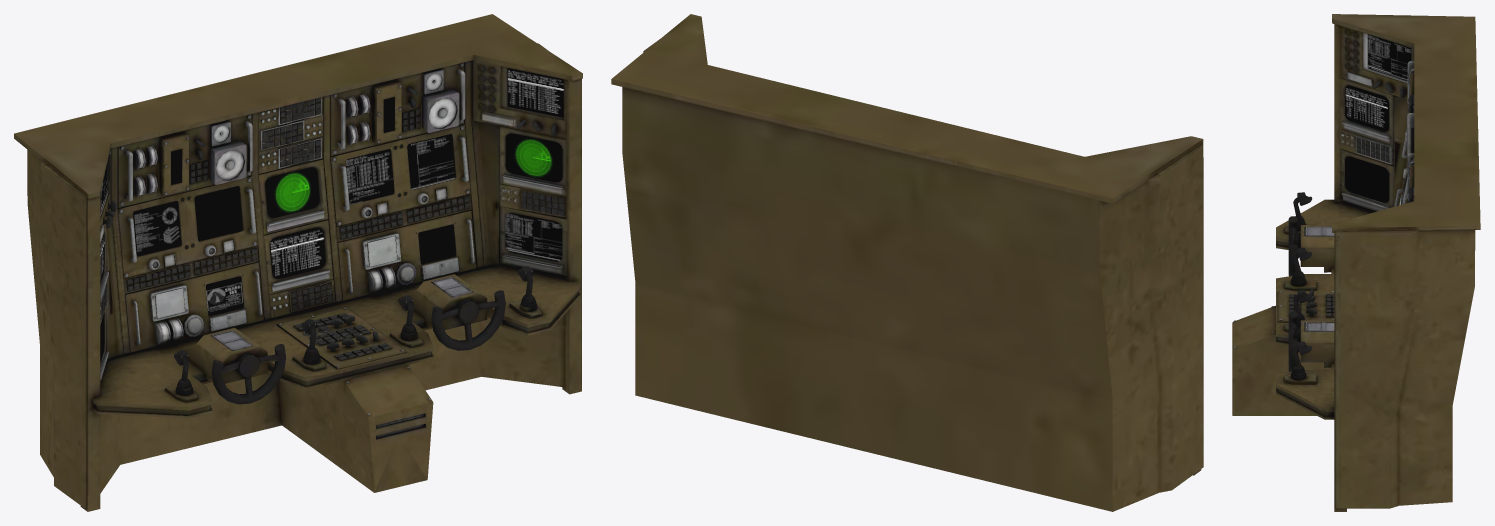
Rendered from computer_1-transformed.glb.
3 renders of one model, left to right at view 1: azimuth 30°, elevation 25°; view 2: azimuth 150°, elevation 25°; view 3: azimuth 270°, elevation 25°, orthographic. The views are drawn at different scales.
Parts seen in each view (by area): view 1: Sub_Control_Computer_Sub_Control_Material_0, Glass_Glass_Material_0; view 2: Sub_Control_Computer_Sub_Control_Material_0; view 3: Sub_Control_Computer_Sub_Control_Material_0, Glass_Glass_Material_0.
Boxes of the visible parts, box(x1,y1,x2,y2) form: Sub_Control_Computer_Sub_Control_Material_0: box(14, 14, 582, 511); Glass_Glass_Material_0: box(100, 68, 563, 363); Sub_Control_Computer_Sub_Control_Material_0: box(611, 14, 1203, 511); Sub_Control_Computer_Sub_Control_Material_0: box(1232, 14, 1480, 511); Glass_Glass_Material_0: box(1345, 34, 1412, 202).
Size of the model in its own units: 4.23 by 2.59 by 2.06.
2 materials, 2 textured.
